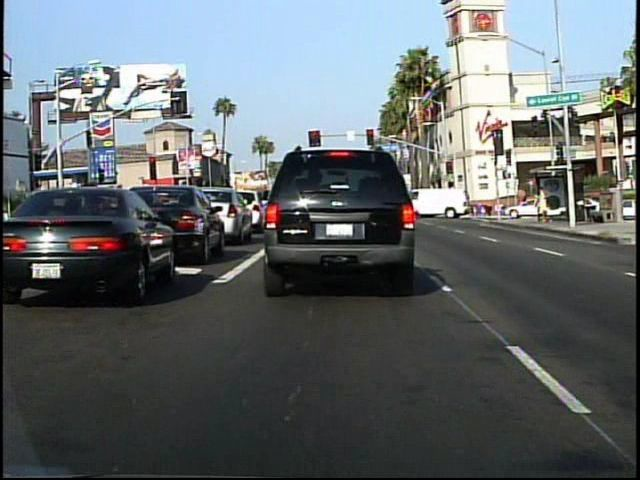person: (534, 183, 552, 225)
